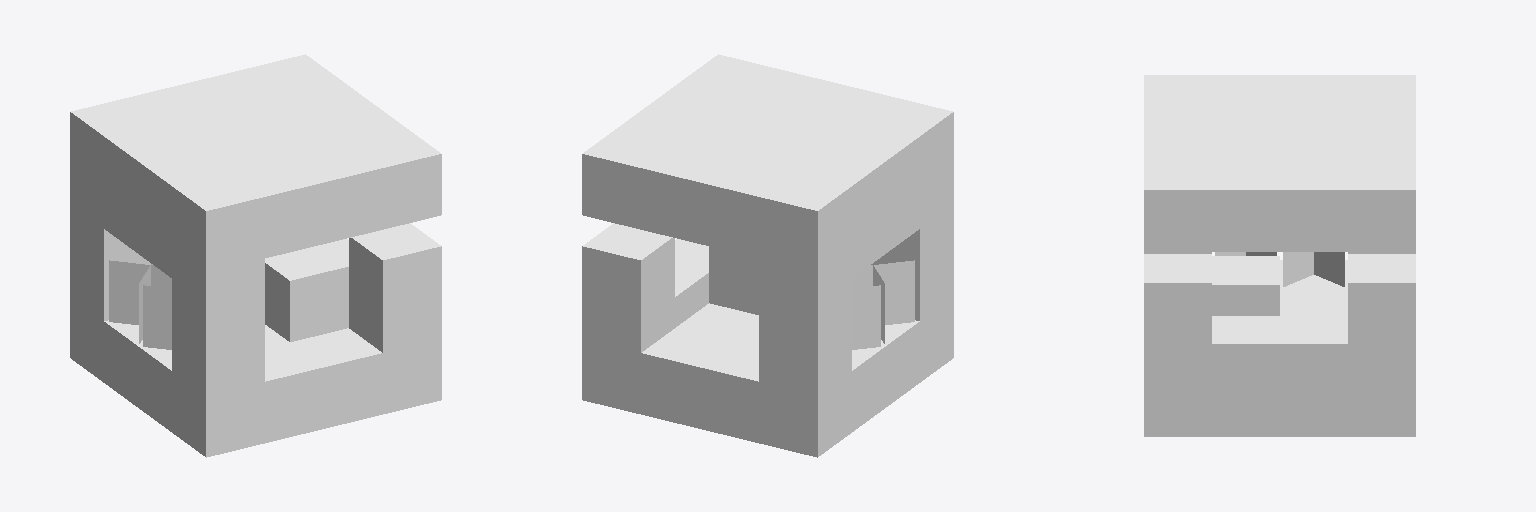
3 renders of one model, left to right at view 1: azimuth 30°, elevation 25°; view 2: azimuth 150°, elevation 25°; view 3: azimuth 270°, elevation 25°, orthographic.
Parts seen in each view (by area): view 1: Nouveau_monde_(3)__-201_62_-89_to_-194_255_-82; view 2: Nouveau_monde_(3)__-201_62_-89_to_-194_255_-82; view 3: Nouveau_monde_(3)__-201_62_-89_to_-194_255_-82.
Part boxes in pixels (x1,y1,x2,y2): Nouveau_monde_(3)__-201_62_-89_to_-194_255_-82: (70,54,441,457); Nouveau_monde_(3)__-201_62_-89_to_-194_255_-82: (582,54,953,457); Nouveau_monde_(3)__-201_62_-89_to_-194_255_-82: (1144,75,1415,436).
Bounding box in the file's own units: 4 × 4 × 4.